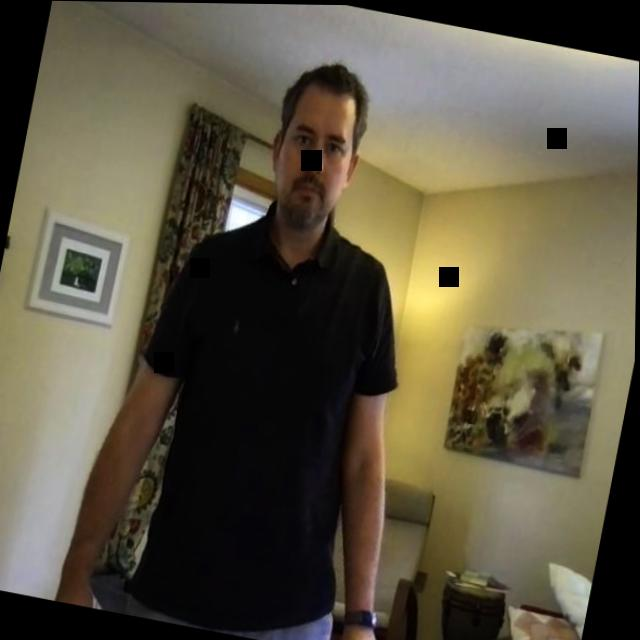NO-Mask: (260, 55, 376, 235)
